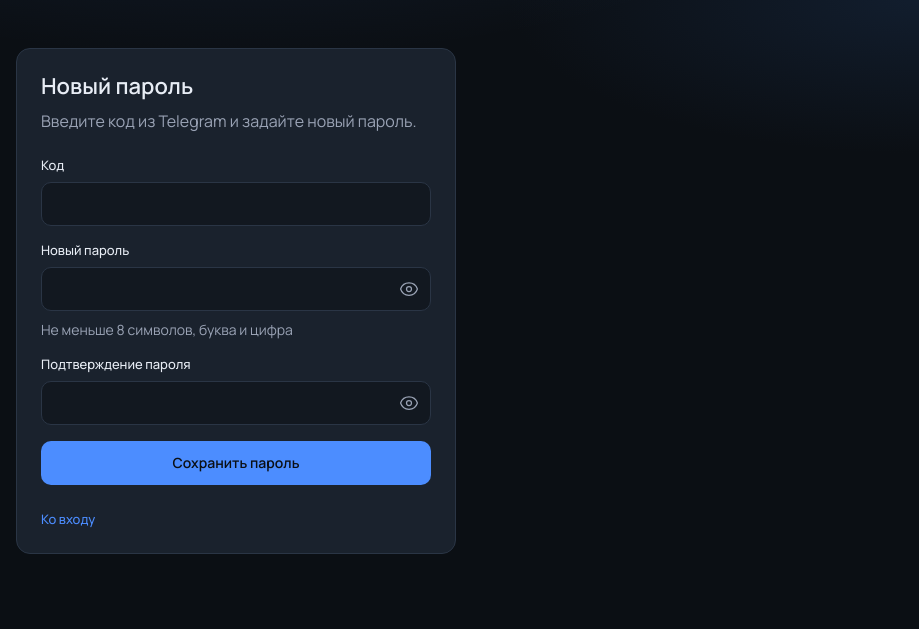
Test: ResetPasswordPage › требует код и валидный новый пароль
This screenshot has width=919, height=629.
Click the button "Сохранить пароль" at (236, 463), box x1=41 y1=441 x2=431 y2=485
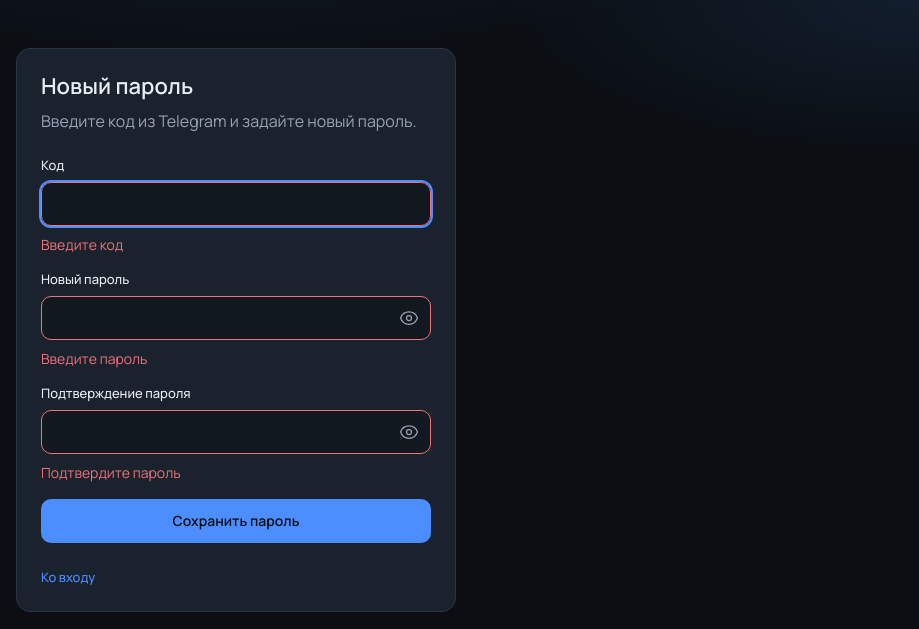
Check: the text "Введите код" is shown, box x1=41 y1=235 x2=123 y2=254
Check: the text "Введите пароль" is shown, box x1=41 y1=349 x2=148 y2=368
